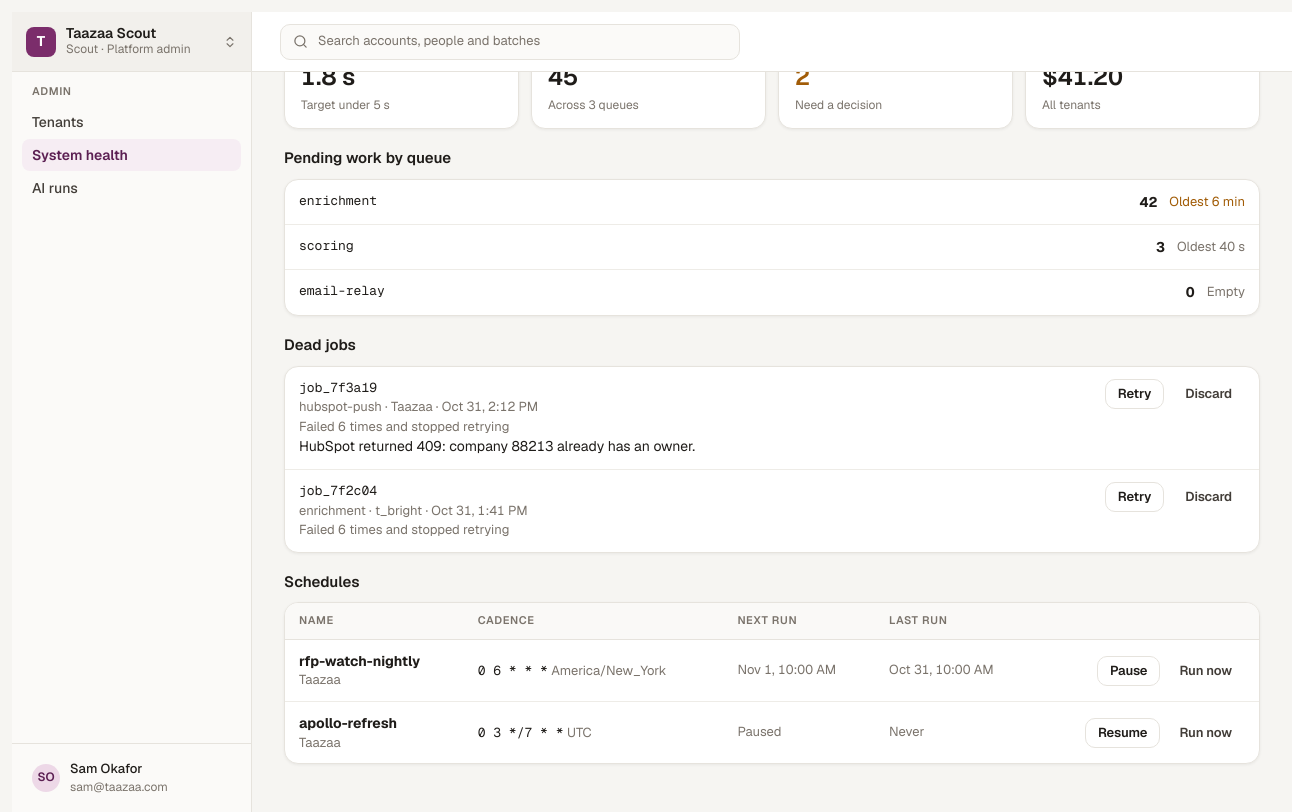
it: schedules › pauses, resumes and runs now, and shows the failures
(page scrolled)
Click the button with aria-label "Pause rfp-watch-nightly for Taazaa" at (1129, 671), box [1097,656,1160,686]
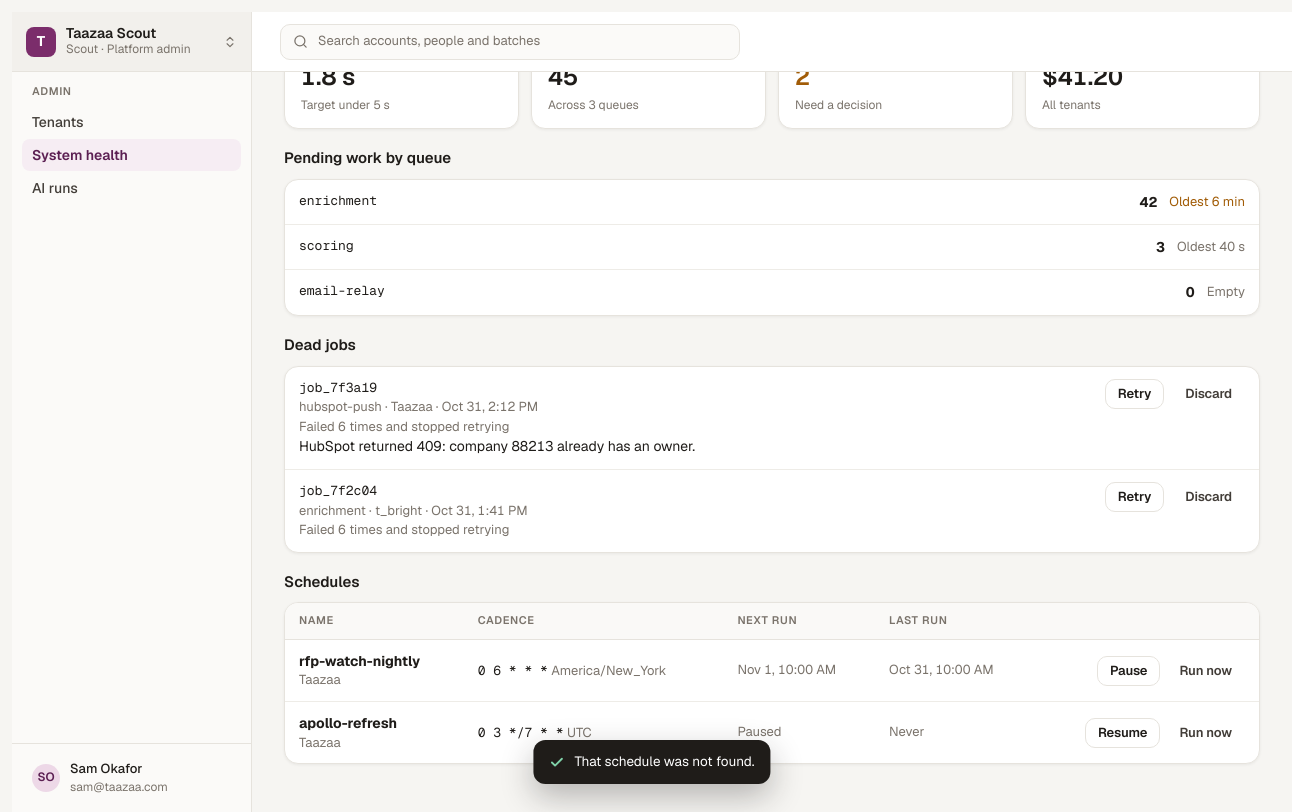
expect the text "That schedule was not found." is shown: met, box [574,752,755,772]
Click the button with aria-label "Resume apollo-refresh for Taazaa" at (1123, 733), box [1085,718,1160,748]
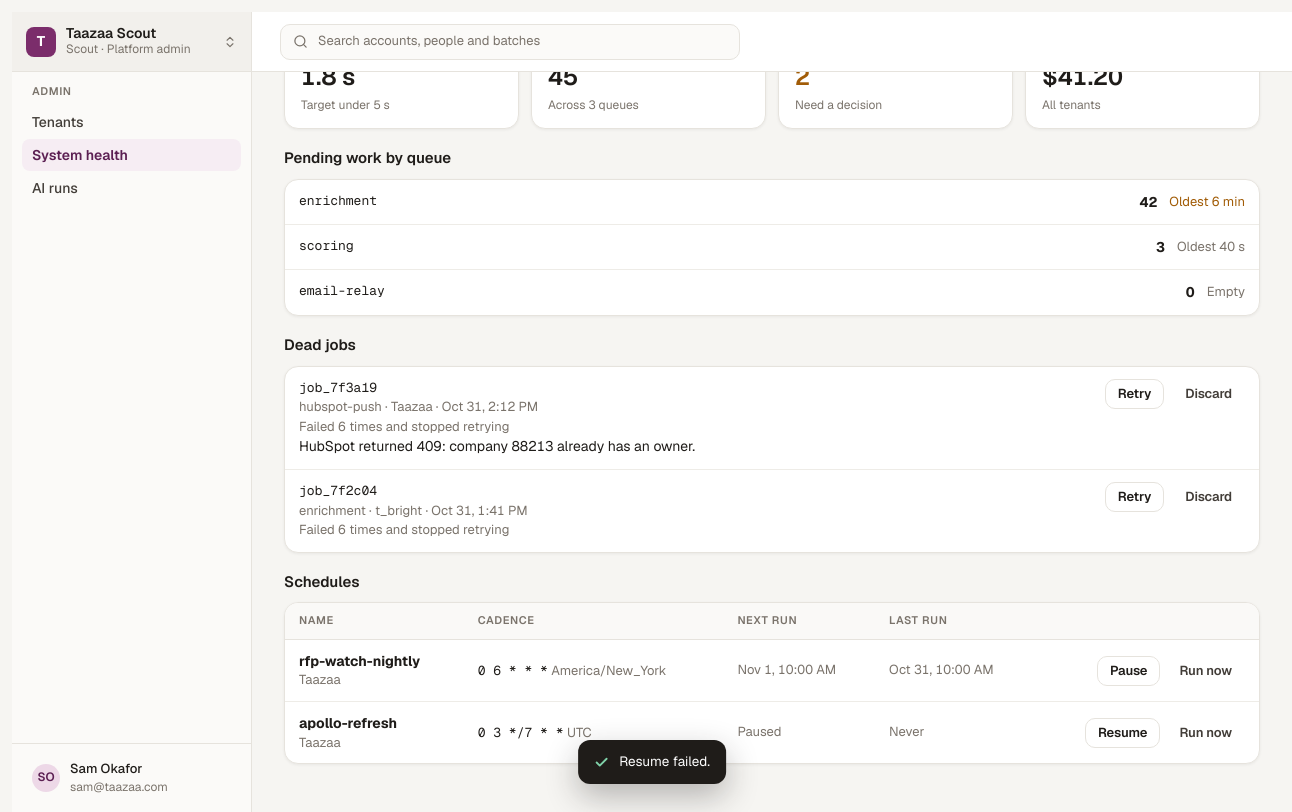
expect the text "Resume failed." is shown: met, box [619,752,710,772]
Click the button with aria-label "Run rfp-watch-nightly for Taazaa now" at (1206, 671), box [1166,656,1245,686]
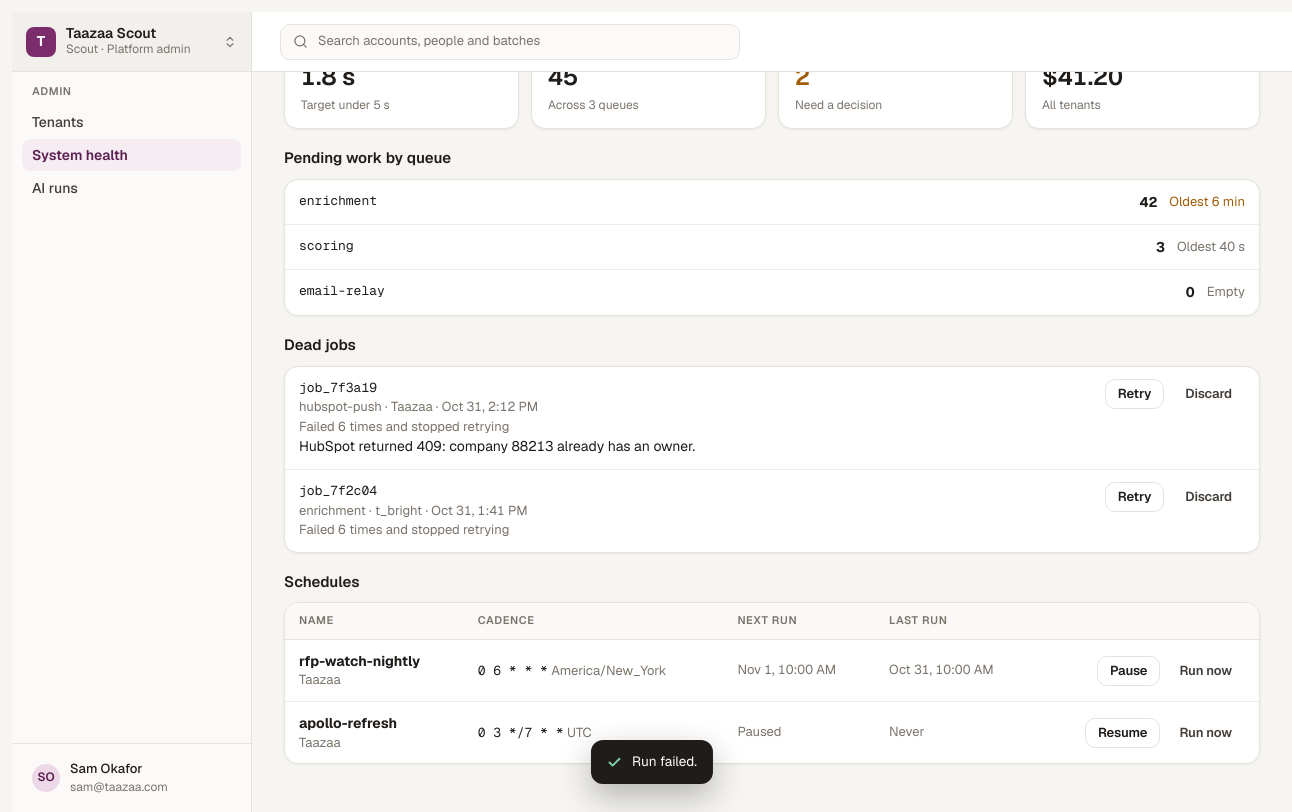
expect the text "Run failed." is shown: met, box [632,752,697,772]
Click the button with aria-label "Pause rfp-watch-nightly for Taazaa" at (1129, 671), box [1097,656,1160,686]
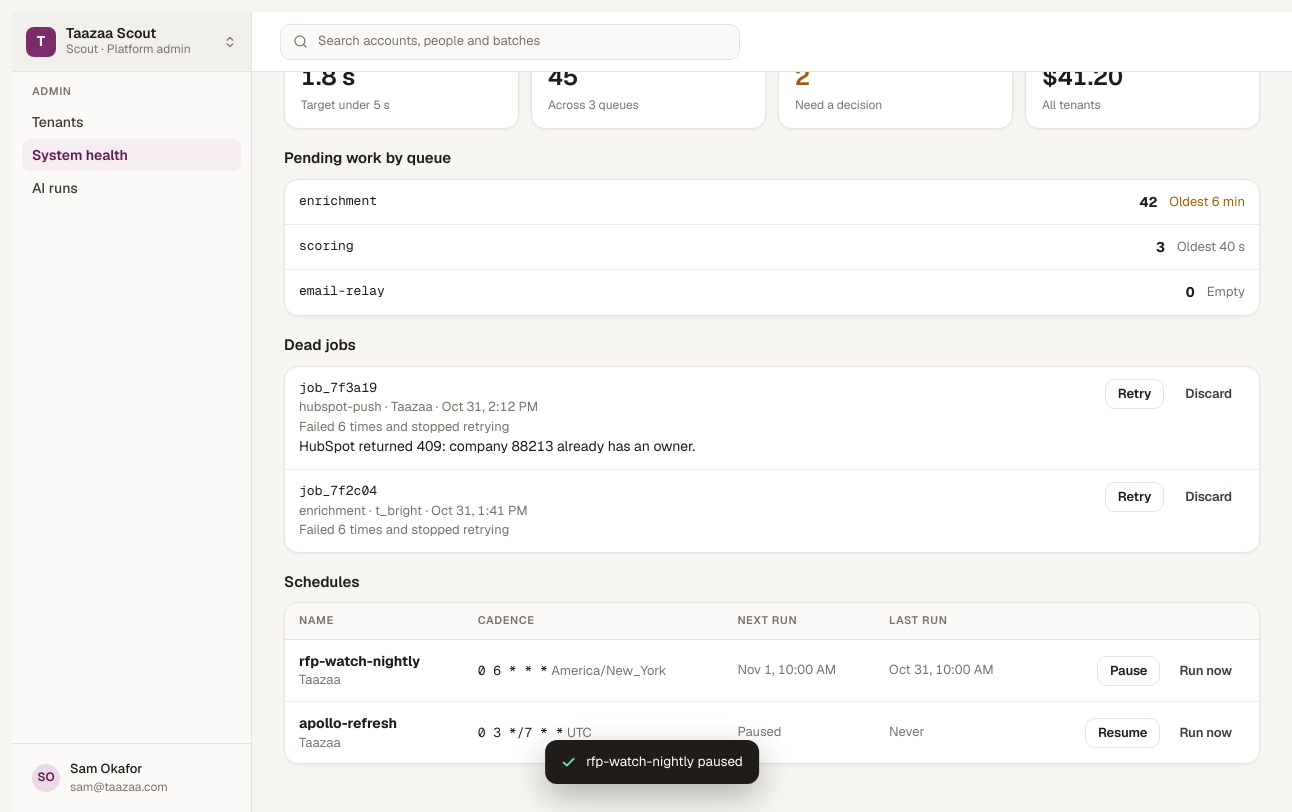
expect the text "rfp-watch-nightly paused" is shown: met, box [586,752,743,772]
Click the button with aria-label "Resume apollo-refresh for Taazaa" at (1123, 733), box [1085,718,1160,748]
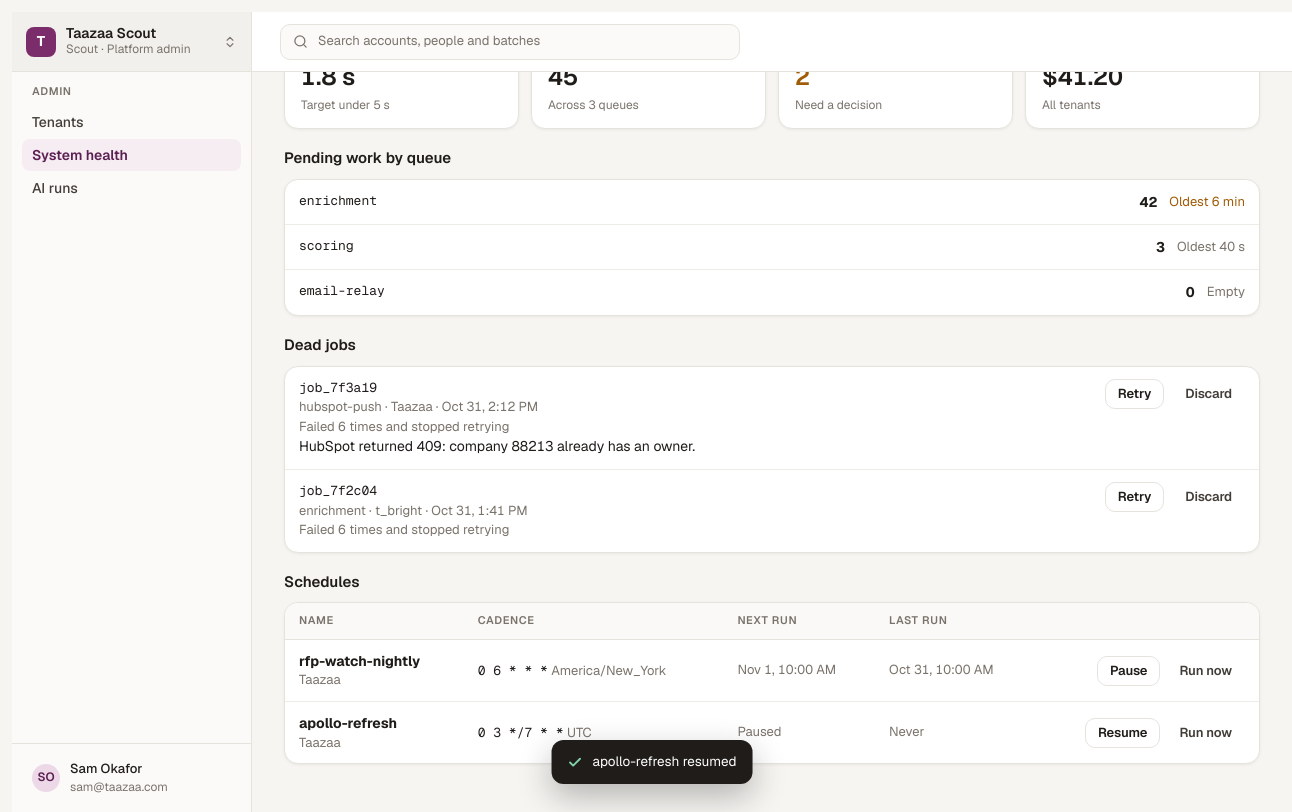
expect the text "apollo-refresh resumed" is shown: met, box [592,752,736,772]
Click the button with aria-label "Run rfp-watch-nightly for Taazaa now" at (1206, 671), box [1166,656,1245,686]
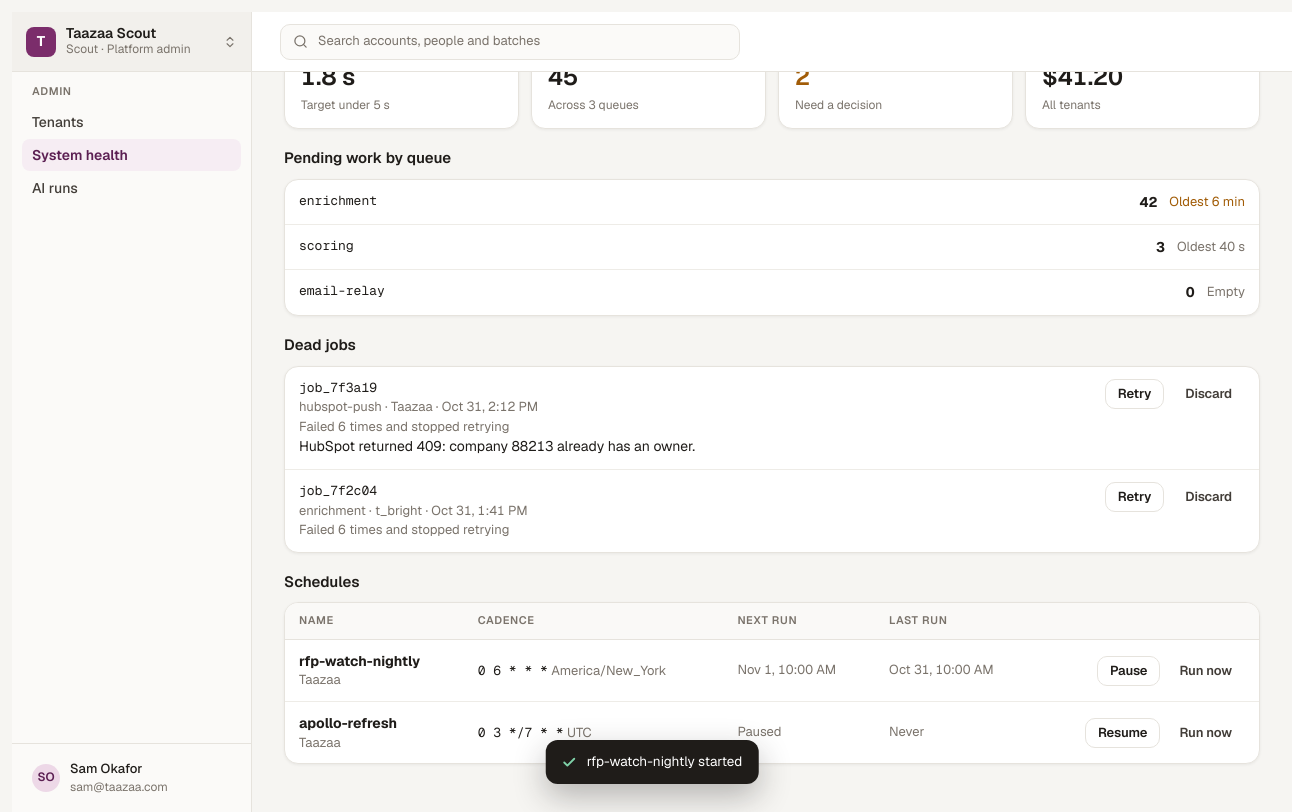
expect the text "rfp-watch-nightly started" is shown: met, box [587,752,742,772]
